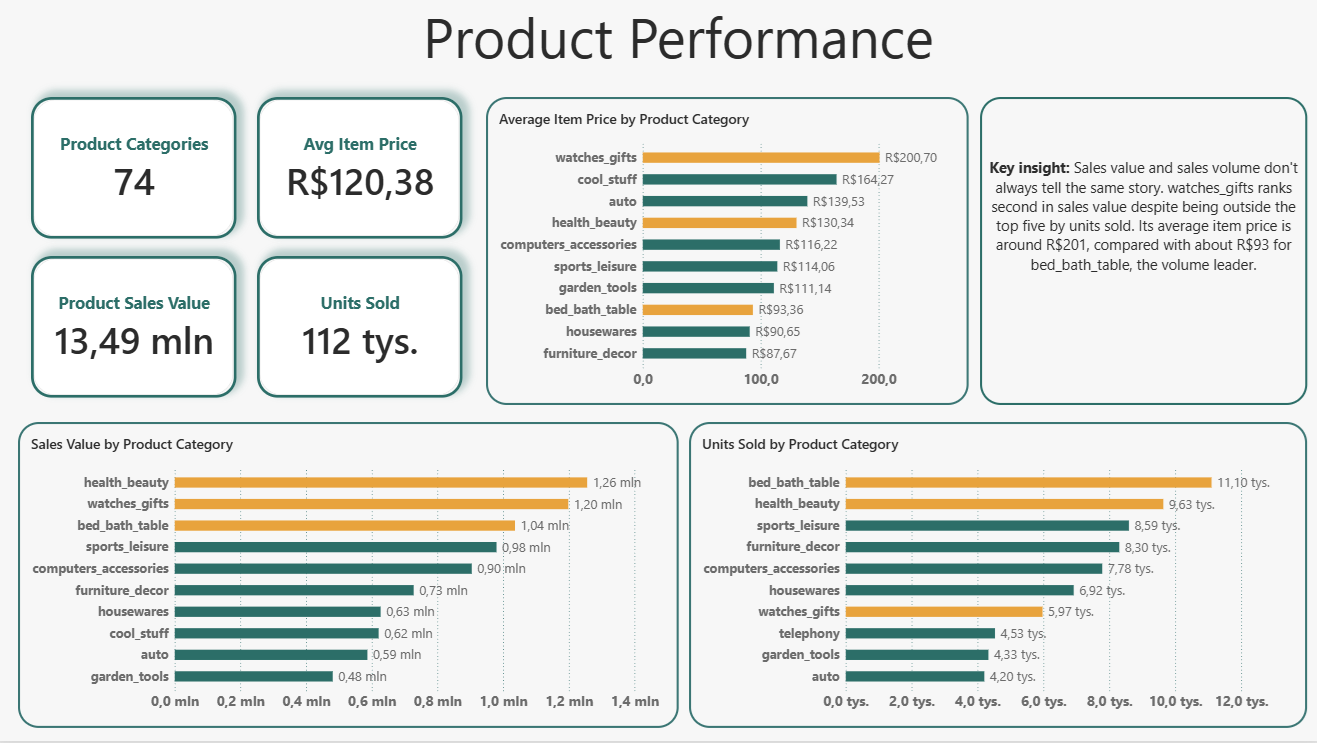

The page's visual inventory and layout, read from the dashboard file:
{"tool":"powerbi","page":{"name":"Product Performance","canvas":[1920,1080],"ordinal":2},"visuals":[{"type":"cardVisual","fields":{"Data":["analysis vw_product_performance.Category Count"]},"box":[48.2,143.1,298.6,206],"z":0},{"type":"cardVisual","fields":{"Data":["analysis vw_product_performance.Product Sales Value"]},"box":[48.2,373.4,298.6,206],"z":1000},{"type":"cardVisual","fields":{"Data":["analysis vw_product_performance.Units Sold"]},"box":[376.5,373.4,298.6,206],"z":2000},{"type":"cardVisual","fields":{"Data":["analysis vw_product_performance.Avg Item Price"]},"box":[376.5,143.1,298.6,206],"z":3000},{"type":"clusteredBarChart","title":"Sales Value by Product Category","fields":{"Category":["analysis vw_product_performance.product_category"],"Y":["analysis vw_product_performance.Product Sales Value"]},"box":[29.4,615.2,960.8,444.7],"z":4000},{"type":"clusteredBarChart","title":"Units Sold by Product Category","fields":{"Category":["analysis vw_product_performance.product_category"],"Y":["analysis vw_product_performance.Units Sold"]},"box":[1005.7,615.2,898.8,444.7],"z":5000},{"type":"textbox","box":[76.2,0,1828.2,116.7],"z":6000},{"type":"clusteredBarChart","title":"Average Item Price by Product Category","fields":{"Category":["analysis vw_product_performance.product_category"],"Y":["analysis vw_product_performance.Avg Item Price"]},"box":[709.7,142.6,702,447.8],"z":7000},{"type":"textbox","box":[1428.8,142.6,475.7,447.8],"z":8000}]}

Visuals, with their boxes in screenshot pixels (x1, y1, x2, y2), scaled from the page's 1920x1080 canvas onto the 1317x743 screenshot:
cardVisual - analysis vw_product_performance.Category Count: locate(33, 98, 238, 240)
cardVisual - analysis vw_product_performance.Product Sales Value: locate(33, 257, 238, 399)
cardVisual - analysis vw_product_performance.Units Sold: locate(258, 257, 463, 399)
cardVisual - analysis vw_product_performance.Avg Item Price: locate(258, 98, 463, 240)
"Sales Value by Product Category" clusteredBarChart: locate(20, 423, 679, 729)
"Units Sold by Product Category" clusteredBarChart: locate(690, 423, 1306, 729)
textbox: locate(52, 0, 1306, 80)
"Average Item Price by Product Category" clusteredBarChart: locate(487, 98, 968, 406)
textbox: locate(980, 98, 1306, 406)
